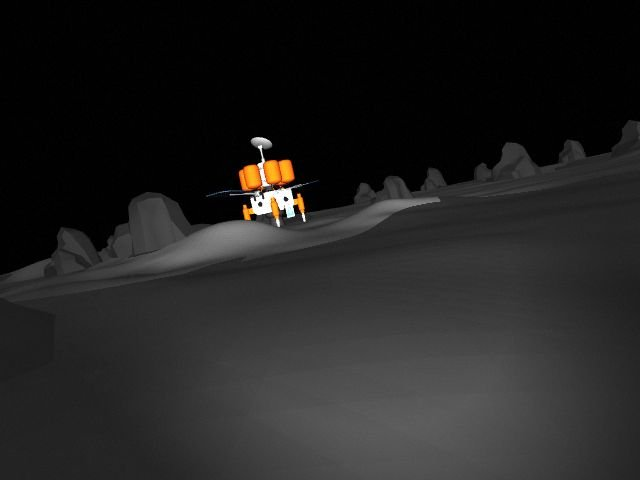homebase: (205, 136, 329, 231)
